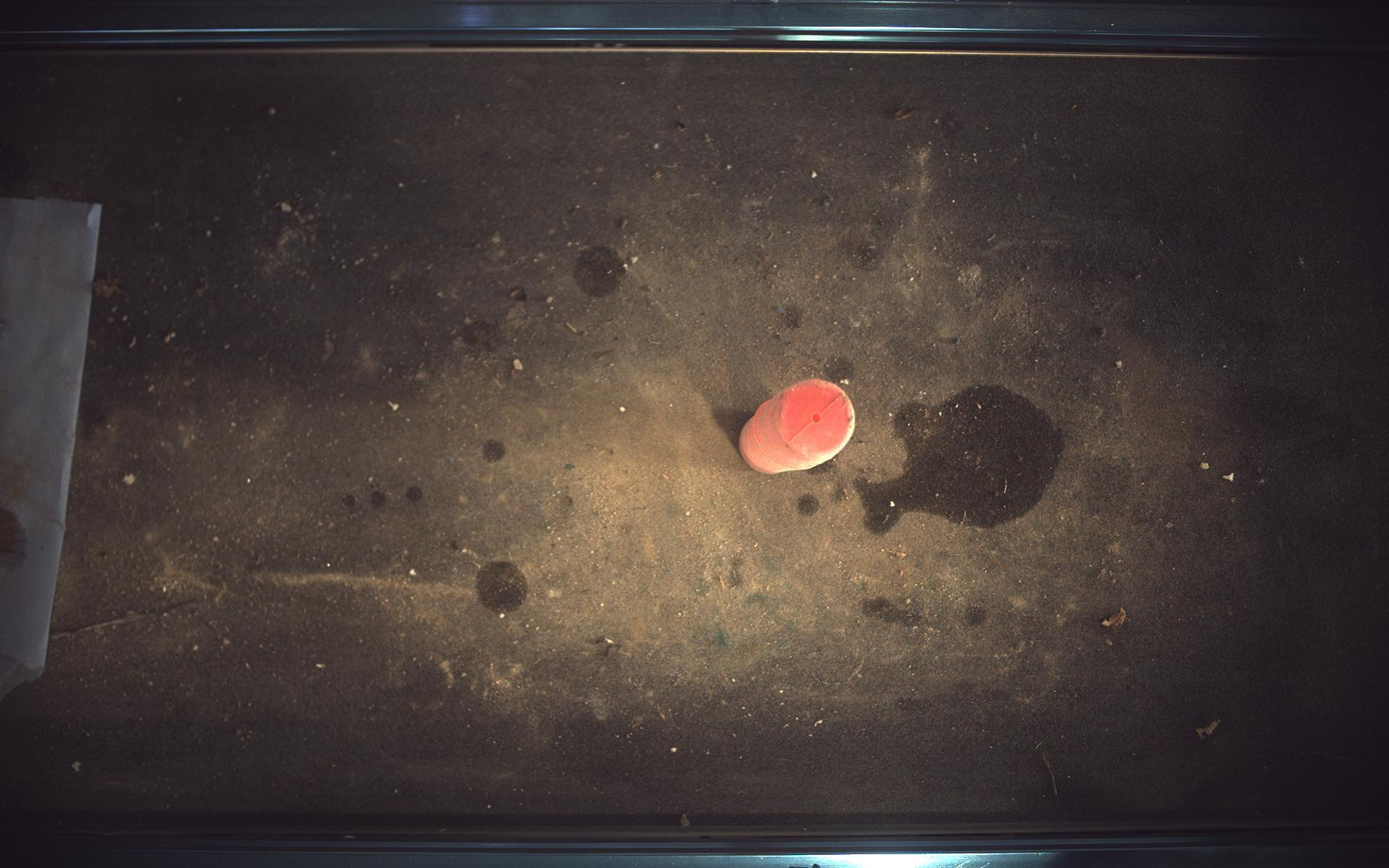plastic: (740, 378, 857, 474)
